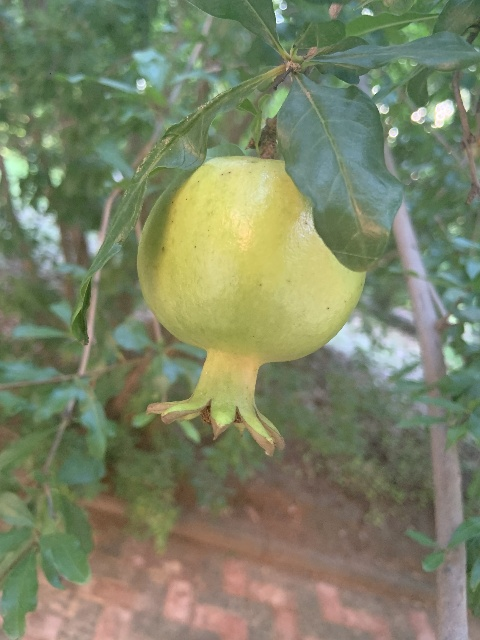mid-growth: (137, 154, 365, 456)
